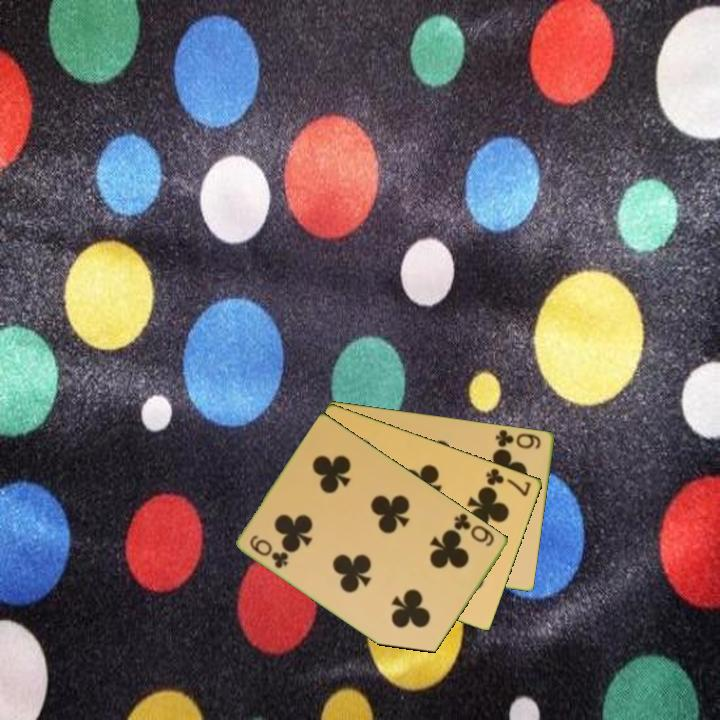6c: (246, 531, 292, 572), (451, 509, 498, 549), (492, 426, 544, 451)
7c: (483, 464, 534, 499)
